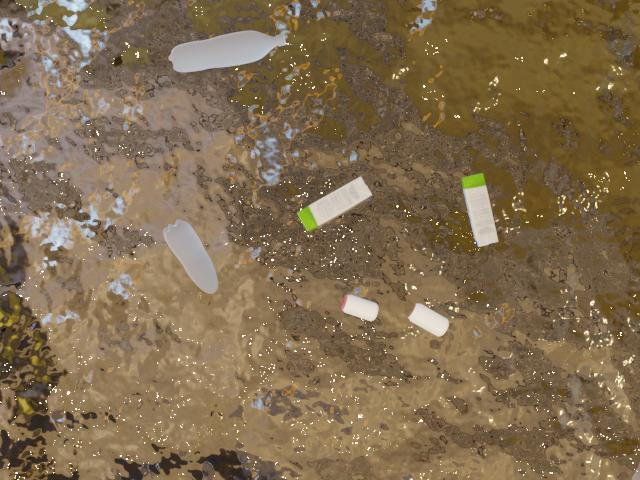Metal: (320, 288, 393, 332), (408, 292, 461, 352)
Plastic: (144, 12, 292, 90), (151, 205, 231, 305)
Trash: (287, 160, 388, 251), (440, 164, 522, 257)
